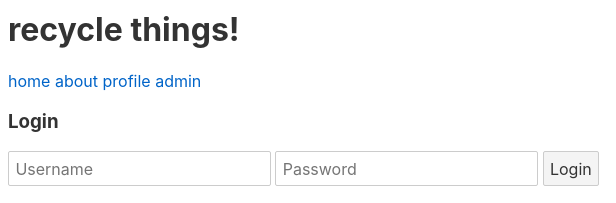
Test: App.svelte › Routing: › GIVEN: The user is not logged in, › WHEN: The user is logged in, › WHEN: Nav bar links lead to both protected and non-protected routes, › THEN: the user clicks home and is routed to home-page
The width and height of the screenshot is (616, 203).
Click the link "home" at x=29, y=81, box x1=8 y1=71 x2=50 y2=91
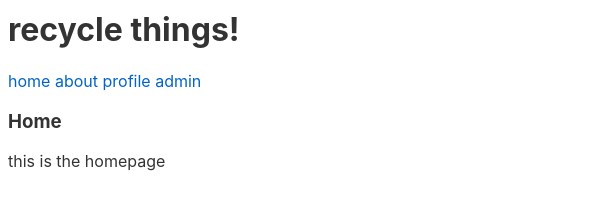
Expected: the element with test id "home-page" is shown, x1=8 y1=110 x2=165 y2=171
